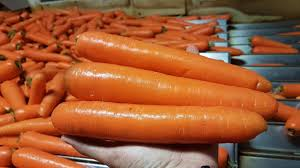carrot: (76, 30, 273, 94), (48, 89, 272, 141), (57, 60, 273, 111)
